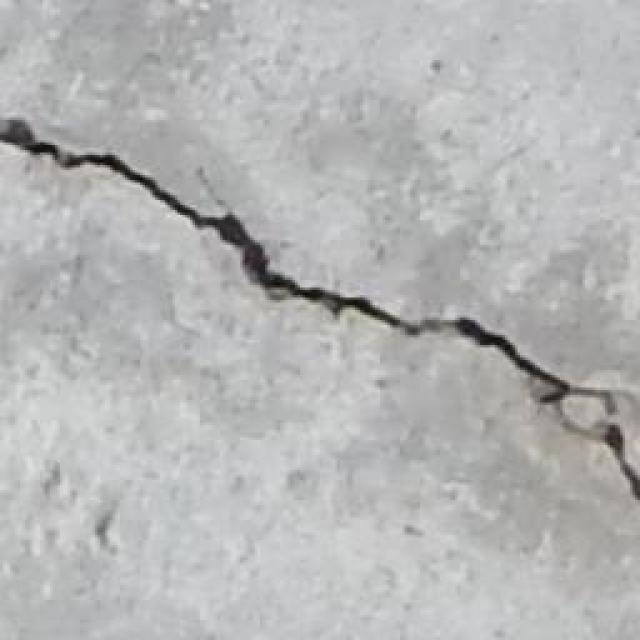concrete-crack: (0, 108, 640, 504)
